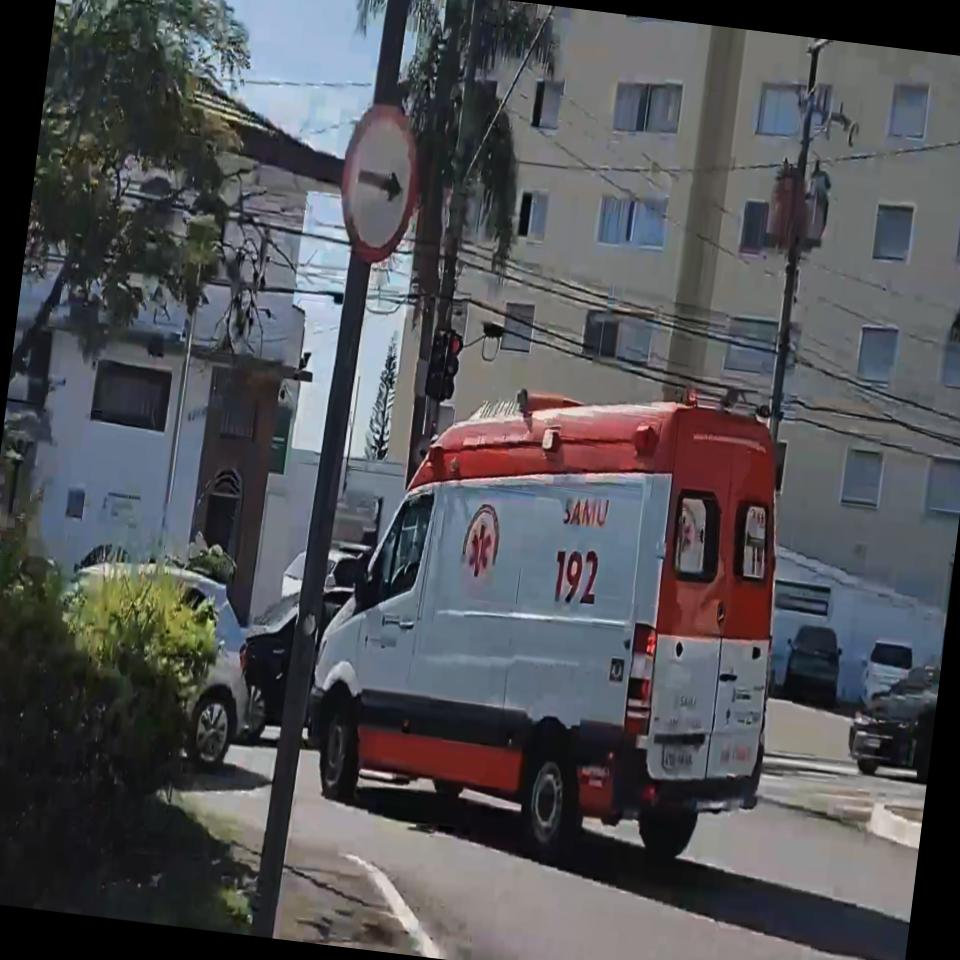bombeiro: (294, 349, 807, 884)
